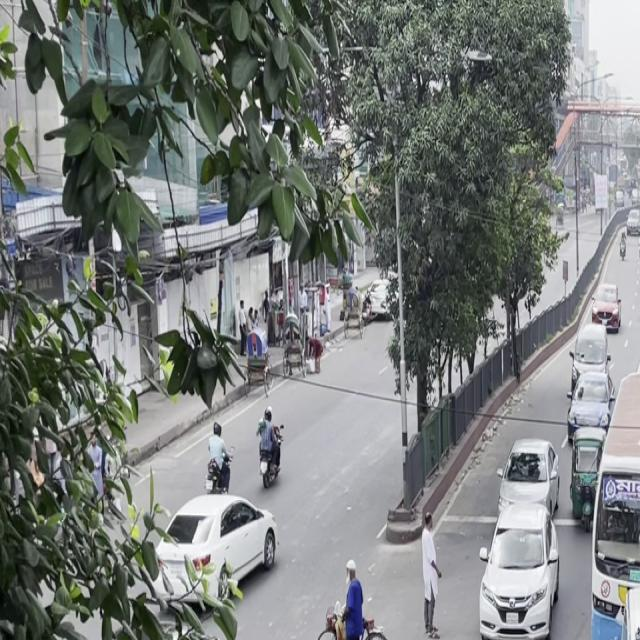bicycle: (311, 560, 399, 640)
car: (473, 496, 567, 640), (563, 360, 617, 446), (596, 572, 640, 640), (590, 284, 623, 336)
motorbike: (252, 405, 289, 495)
rickshaw: (565, 422, 608, 528)
